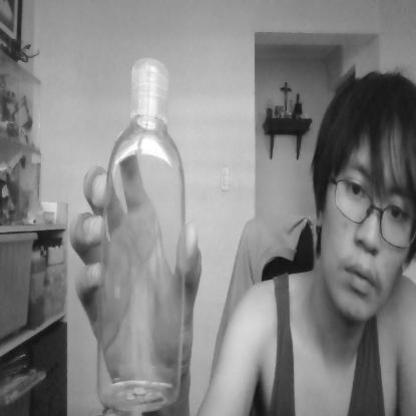Plastic Bottle: (95, 57, 191, 416)
